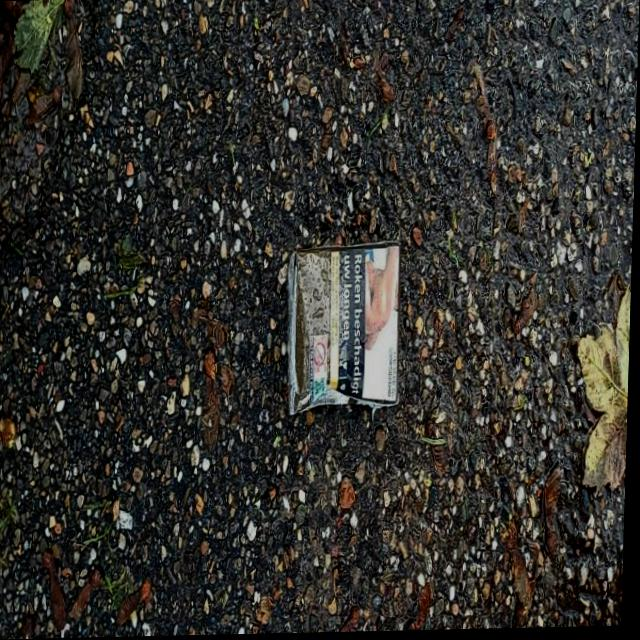Paper: (284, 239, 403, 419)
